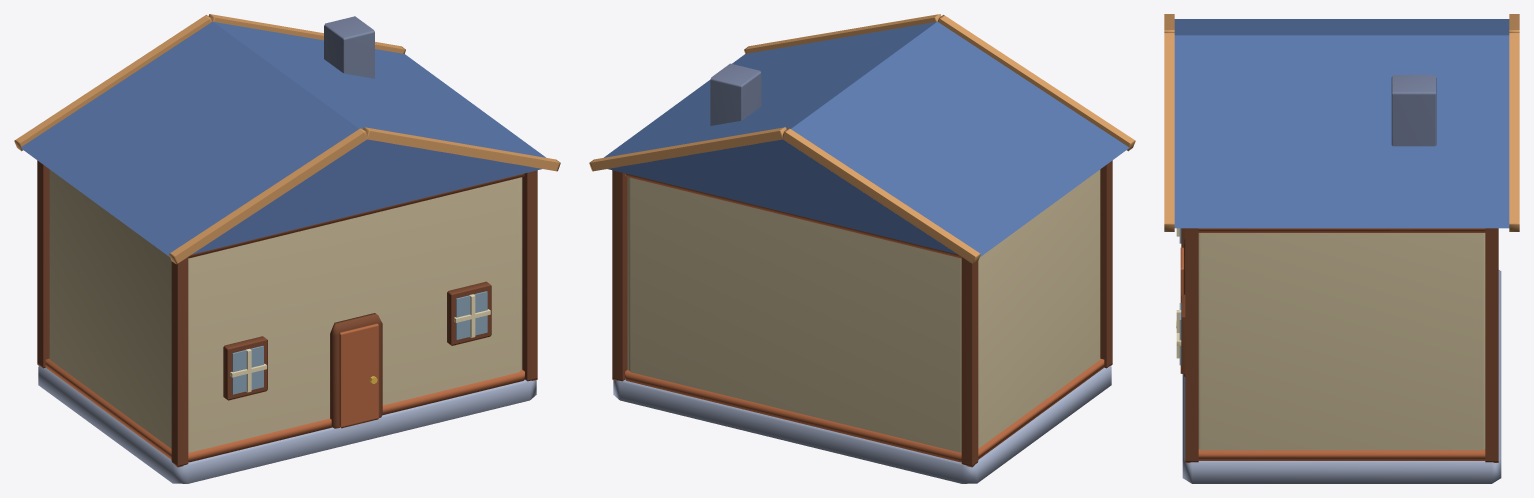
Rendered from quay_warehouse.glb.
3 renders of one model, left to right at view 1: azimuth 30°, elevation 25°; view 2: azimuth 150°, elevation 25°; view 3: azimuth 270°, elevation 25°, orthographic. The views are drawn at different scales.
Parts seen in each view (by area): view 1: Plaster walls.005, Pitched roof.005, Stone footing.005, Timber band.010, Door planks.005, Corner post.020, Corner post.022, Roof trim.020, Chimney.005, Corner post.021, Roof trim.021, Roof trim.022 (+7 smaller); view 2: Plaster walls.005, Pitched roof.005, Stone footing.005, Timber band.010, Corner post.021, Corner post.023, Roof trim.022, Chimney.005, Corner post.020, Roof trim.023, Roof trim.020, Roof trim.021 (+1 smaller); view 3: Pitched roof.005, Plaster walls.005, Stone footing.005, Chimney.005, Corner post.022, Corner post.023, Timber band.010, Roof trim.021, Roof trim.023, Timber band.011, Window frame.013.
Boxes of the visible parts, box(x1,y1,x2,y2) form: Plaster walls.005: box(49, 169, 522, 452); Pitched roof.005: box(20, 21, 545, 256); Stone footing.005: box(38, 366, 536, 483); Timber band.010: box(45, 358, 524, 462); Door planks.005: box(339, 323, 378, 428); Corner post.020: box(171, 257, 188, 467); Corner post.022: box(522, 170, 537, 381); Roof trim.020: box(169, 128, 367, 264); Chimney.005: box(324, 16, 374, 78); Corner post.021: box(37, 160, 49, 368); Roof trim.021: box(363, 127, 560, 171); Roof trim.022: box(14, 15, 212, 151); Plaster walls.005: box(627, 169, 1100, 452); Pitched roof.005: box(604, 21, 1129, 256); Stone footing.005: box(613, 366, 1111, 483); Timber band.010: box(625, 358, 1104, 462); Corner post.021: box(961, 257, 978, 467); Corner post.023: box(612, 170, 627, 381); Roof trim.022: box(782, 128, 980, 264); Chimney.005: box(710, 63, 761, 125); Corner post.020: box(1100, 160, 1112, 368); Roof trim.023: box(589, 127, 786, 171); Roof trim.020: box(937, 15, 1135, 151); Roof trim.021: box(744, 14, 941, 53); Pitched roof.005: box(1174, 19, 1509, 228); Plaster walls.005: box(1198, 233, 1485, 450); Stone footing.005: box(1182, 270, 1501, 483); Chimney.005: box(1391, 75, 1436, 146); Corner post.022: box(1185, 228, 1198, 462); Corner post.023: box(1485, 228, 1498, 462); Timber band.010: box(1198, 449, 1485, 460); Roof trim.021: box(1164, 32, 1174, 231); Roof trim.023: box(1509, 32, 1519, 231); Timber band.011: box(1198, 228, 1485, 232); Window frame.013: box(1181, 294, 1185, 373).
Bounding box in the file's own units: 6.65 × 5.21 × 4.74.
